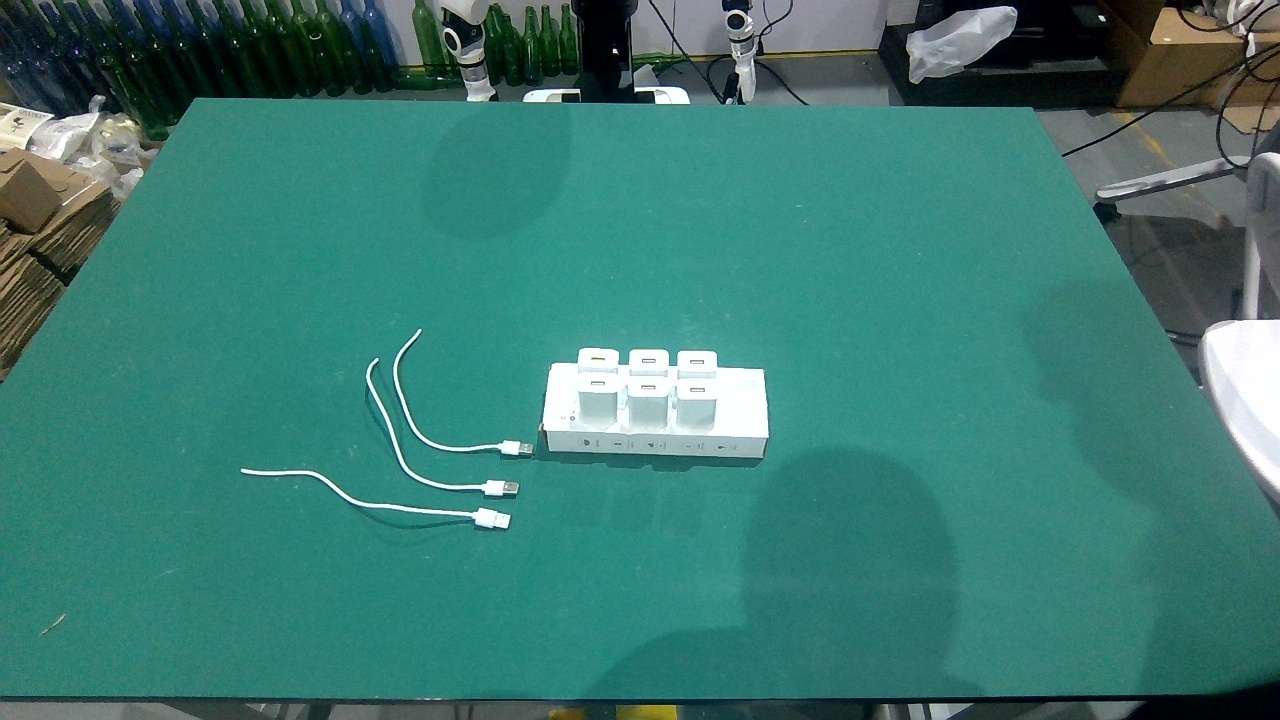usb_a_port: (589, 353, 609, 364), (640, 357, 658, 367), (687, 358, 706, 367), (639, 383, 658, 392), (688, 386, 707, 395), (589, 378, 608, 386)
